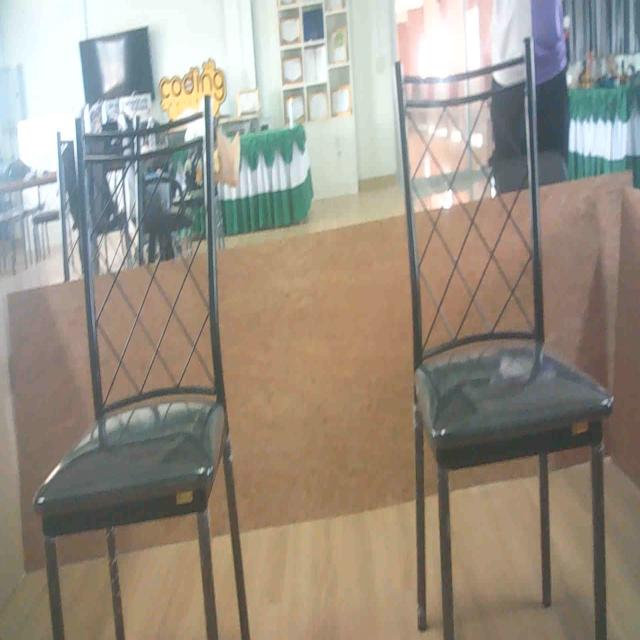empty: (394, 70, 619, 461), (30, 125, 215, 533)
